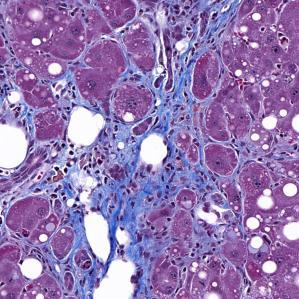fibrosis: (55, 143, 198, 232), (139, 5, 239, 75)
